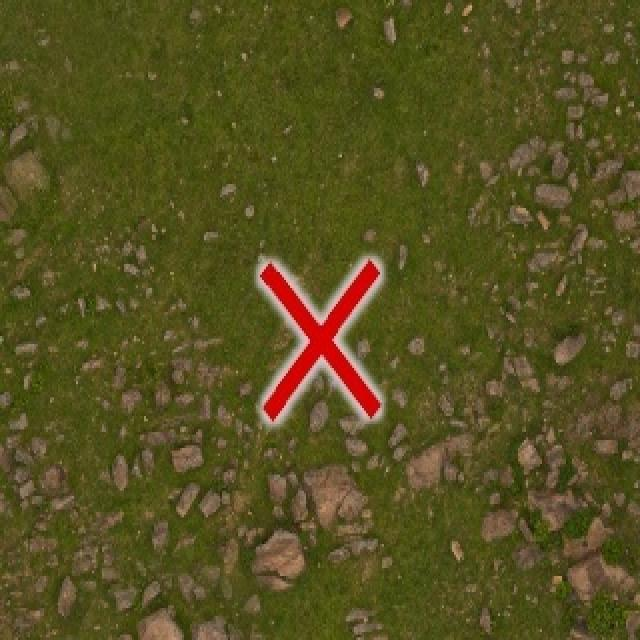x_marker: (259, 260, 379, 420)
